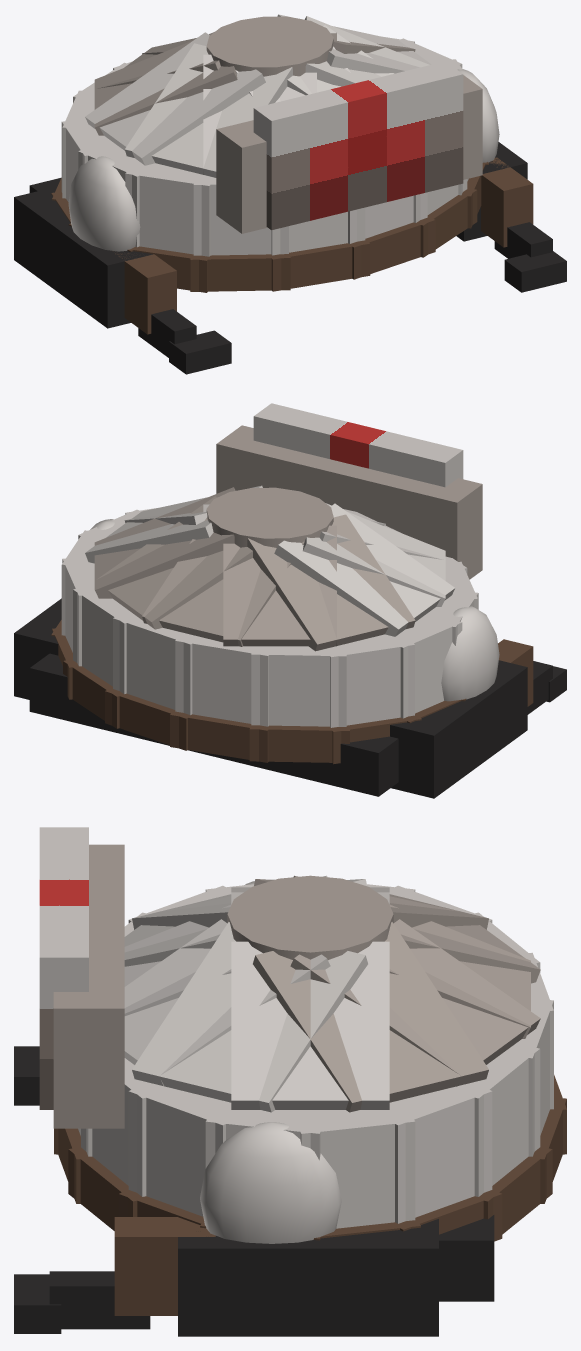
The model's file is CMU3DRMCArmorHelmetSPPFirefighterWorldCloud.glb.
The picture shows the model from 3 angles, top to bottom: view 1: azimuth 30°, elevation 25°; view 2: azimuth 150°, elevation 25°; view 3: azimuth 270°, elevation 25°; orthographic projection. The views are drawn at different scales.
Visible parts, largest first — view 1: original firefighter red emblem, left heat shroud fold, white firefighter brow, joined roof facet 06, joined center crown cap, joined roof facet 07, continuous joined lower shell 09, left joined side guard, joined roof facet 05, right front strap anchor, left front strap anchor, continuous dark rim 11 (+25 smaller); view 2: white firefighter brow, left heat shroud fold, original firefighter red emblem, rear neck-shroud connected fold, joined roof facet 05, joined roof facet 06, continuous joined lower shell 05, continuous joined lower shell 04, continuous joined lower shell 06, joined center crown cap, joined roof facet 04, continuous joined lower shell 03 (+24 smaller); view 3: right heat shroud fold, joined roof facet 00, white firefighter brow, joined roof facet 01, joined roof facet 11, right joined side guard, joined center crown cap, original firefighter red emblem, continuous joined lower shell 00, continuous joined lower shell 01, continuous joined lower shell 14, joined roof facet 02 (+24 smaller).
Part boxes in pixels (<box>): original firefighter red emblem: <box>253,61,463,230</box>; left heat shroud fold: <box>14,186,152,328</box>; white firefighter brow: <box>216,75,482,233</box>; joined roof facet 06: <box>85,32,265,165</box>; joined center crown cap: <box>206,16,333,76</box>; joined roof facet 07: <box>125,43,292,177</box>; continuous joined lower shell 09: <box>125,164,215,256</box>; left joined side guard: <box>68,156,140,251</box>; joined roof facet 05: <box>94,32,237,135</box>; right front strap anchor: <box>481,157,533,247</box>; left front strap anchor: <box>113,251,176,334</box>; continuous dark rim 11: <box>268,238,370,291</box>; white firefighter brow: <box>216,425,482,579</box>; left heat shroud fold: <box>390,660,527,798</box>; original firefighter red emblem: <box>253,403,463,487</box>; rear neck-shroud connected fold: <box>29,653,398,796</box>; joined roof facet 05: <box>247,514,415,651</box>; joined roof facet 06: <box>274,503,455,636</box>; continuous joined lower shell 05: <box>251,643,347,726</box>; continuous joined lower shell 04: <box>175,633,276,726</box>; continuous joined lower shell 06: <box>324,631,414,727</box>; joined center crown cap: <box>206,487,333,547</box>; joined roof facet 04: <box>223,525,336,646</box>; continuous joined lower shell 03: <box>113,611,200,715</box>; right heat shroud fold: <box>178,1219,438,1336</box>; joined roof facet 00: <box>231,941,389,1109</box>; white firefighter brow: <box>53,844,124,1128</box>; joined roof facet 01: <box>253,922,488,1112</box>; joined roof facet 11: <box>132,922,367,1112</box>; right joined side guard: <box>200,1122,341,1243</box>; joined center crown cap: <box>227,875,393,959</box>; original firefighter red emblem: <box>39,827,88,1109</box>; continuous joined lower shell 00: <box>287,1100,415,1228</box>; continuous joined lower shell 01: <box>368,1082,492,1223</box>; continuous joined lower shell 14: <box>128,1082,253,1216</box>; joined roof facet 02: <box>290,919,540,1086</box>.
Size of the model in its own units: 0.342 by 0.174 by 0.2797.
Materials: 5 (1 with a texture image).
